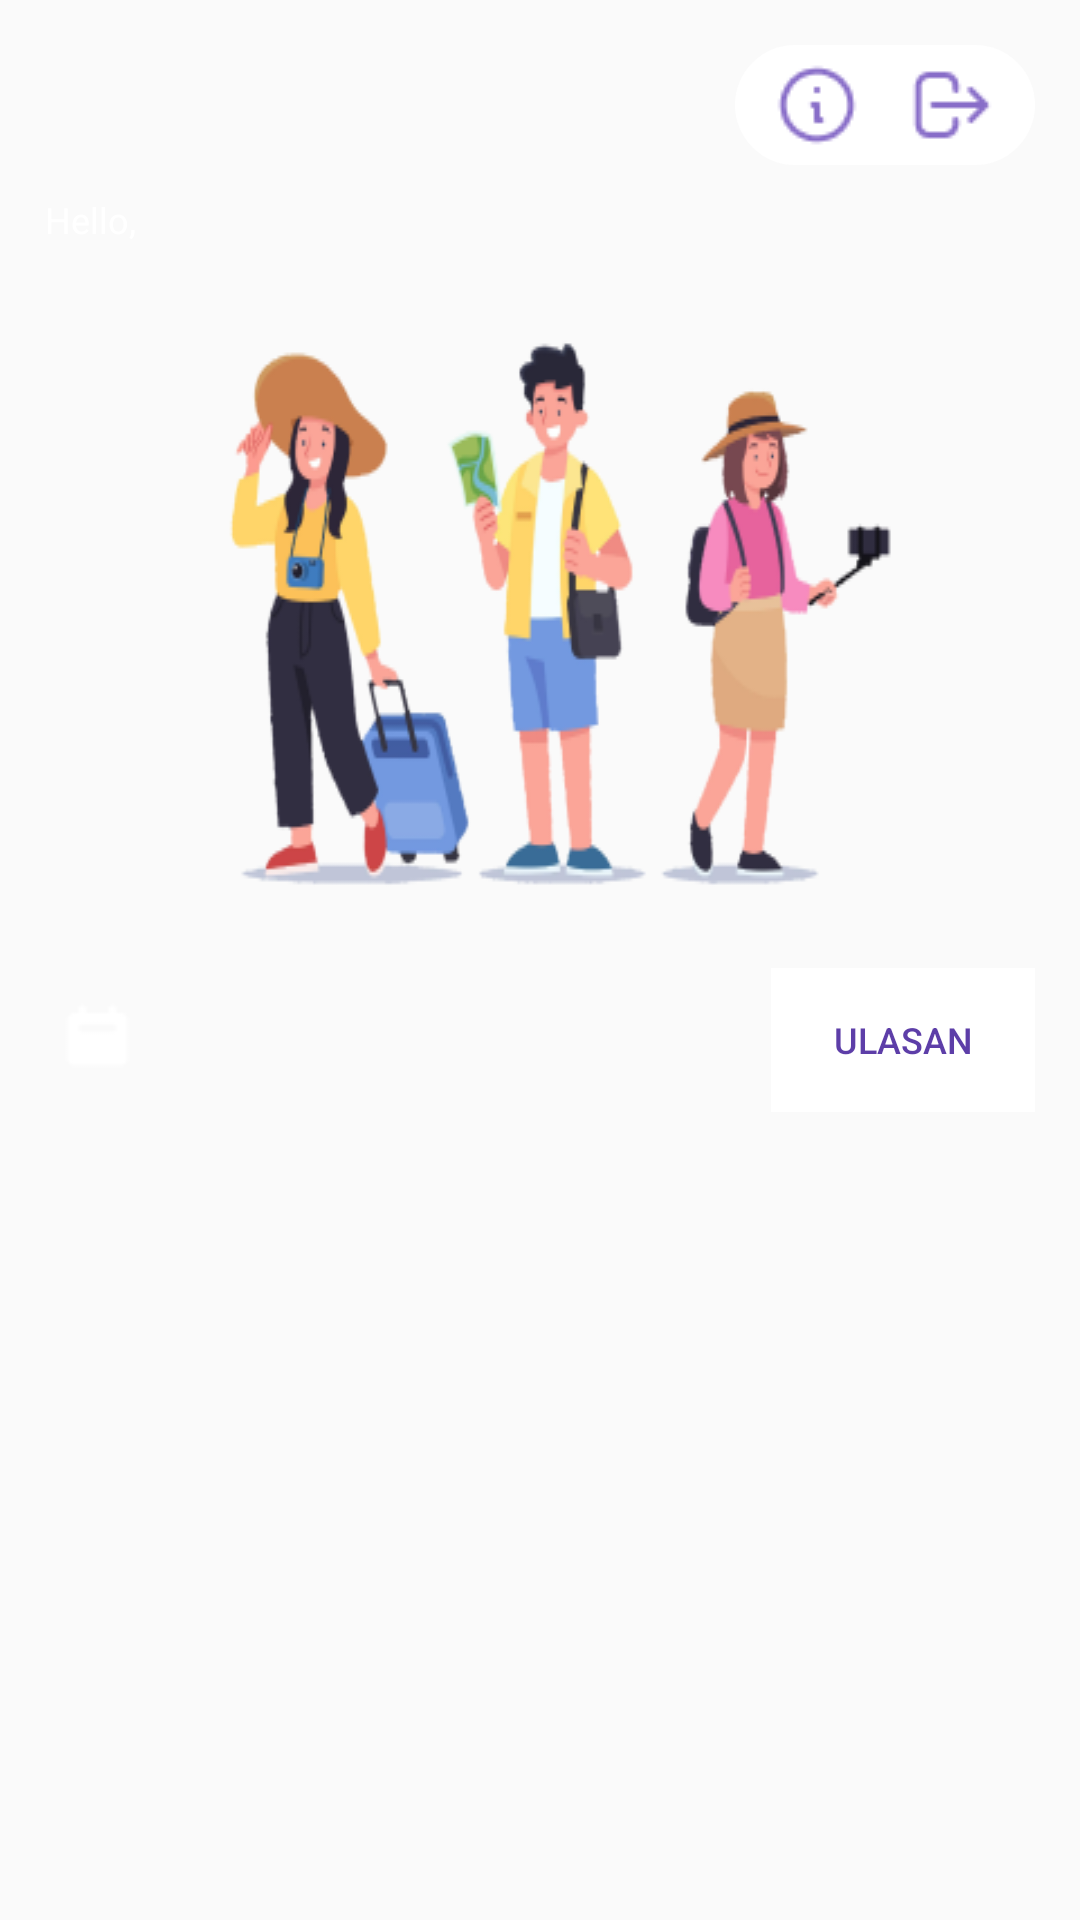

Named icons in this screenshot (1080px×1920px) and their centers, (x=x, y=y):
aboutus: (x=817, y=105)
